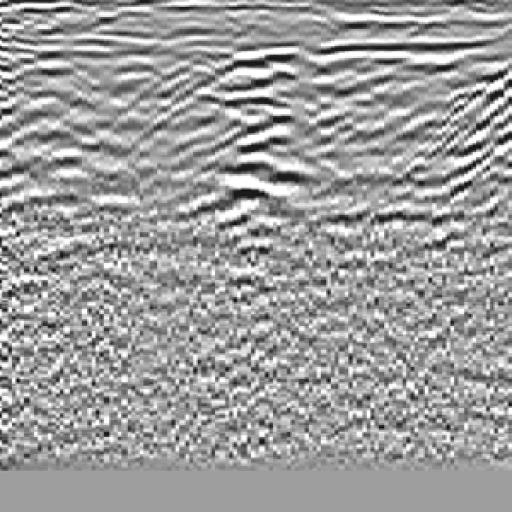metalic: (189, 38, 323, 262)
nonmetalic: (374, 29, 512, 284)
